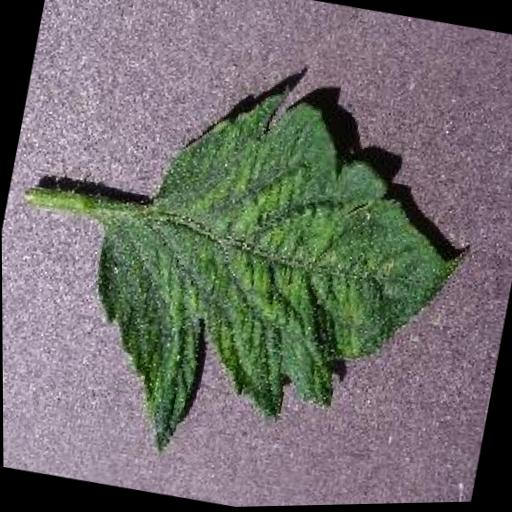Mosaic Virus: (65, 53, 495, 511)
